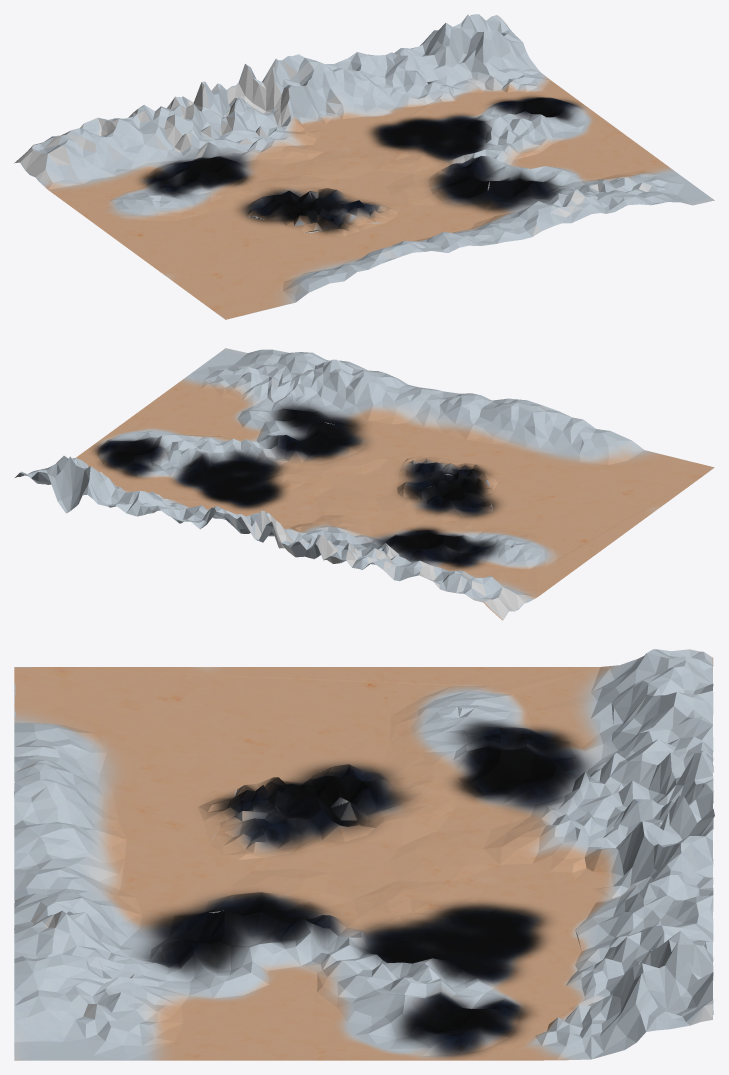
File: Parasitic_Lvl6.1_lowPolyPaint2.fbx
3 views of the same model, one above another, from view 1: azimuth 30°, elevation 25°; view 2: azimuth 150°, elevation 25°; view 3: azimuth 270°, elevation 25° (orthographic). The views are drawn at different scales.
Visible parts, largest first — view 1: Parasitic_Lvl6.1; view 2: Parasitic_Lvl6.1; view 3: Parasitic_Lvl6.1.
Part boxes in pixels (x1,y1,x2,y2): Parasitic_Lvl6.1: (14,14,714,319); Parasitic_Lvl6.1: (15,348,714,620); Parasitic_Lvl6.1: (14,649,714,1060).
Size of the model in its own units: 10001 by 992 by 7524.
1 material, 1 textured.
